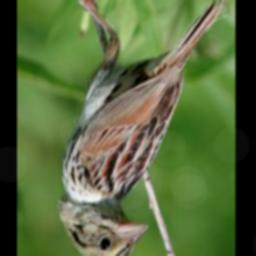Sparrow: (56, 0, 230, 256)
